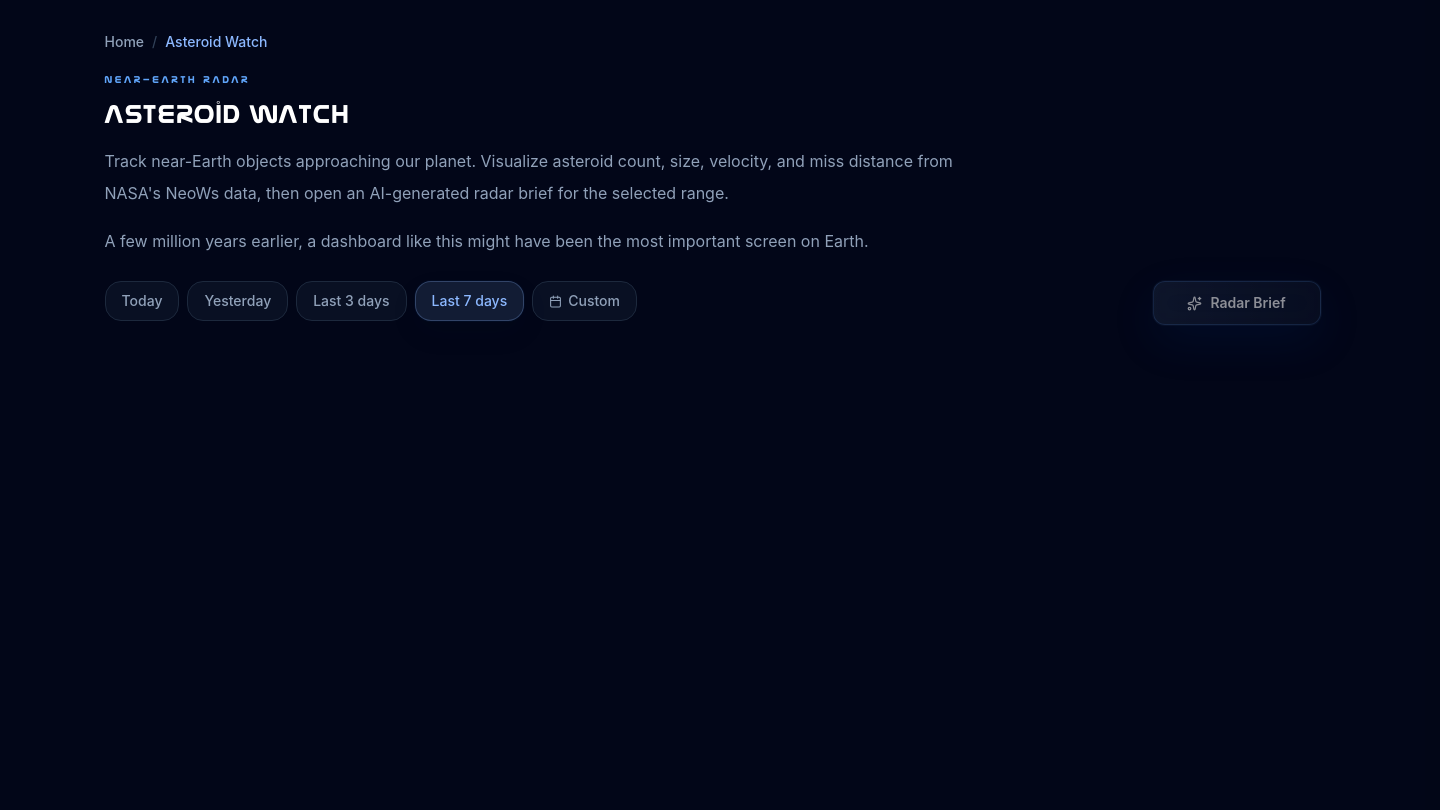
Test case: AsteroidWatchPage › closes the custom calendar when clicking outside
The image size is (1440, 810).
Click the button "Custom" at (585, 301), box [532, 281, 637, 321]
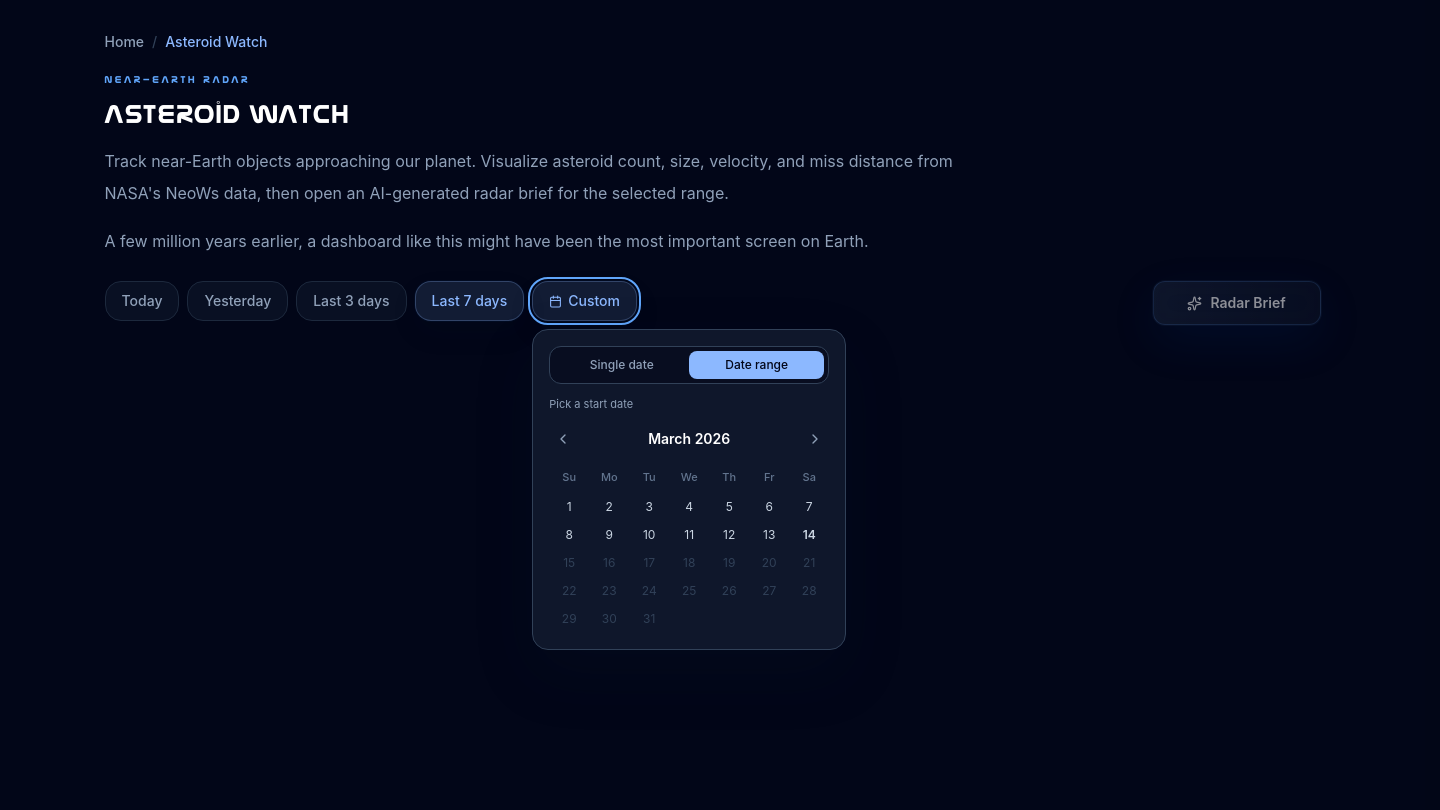
Check: the button "Single date" is shown, box [554, 351, 689, 379]
Press the mouse on the element that starts with "Home" at (712, 405), box [0, 0, 1425, 809]
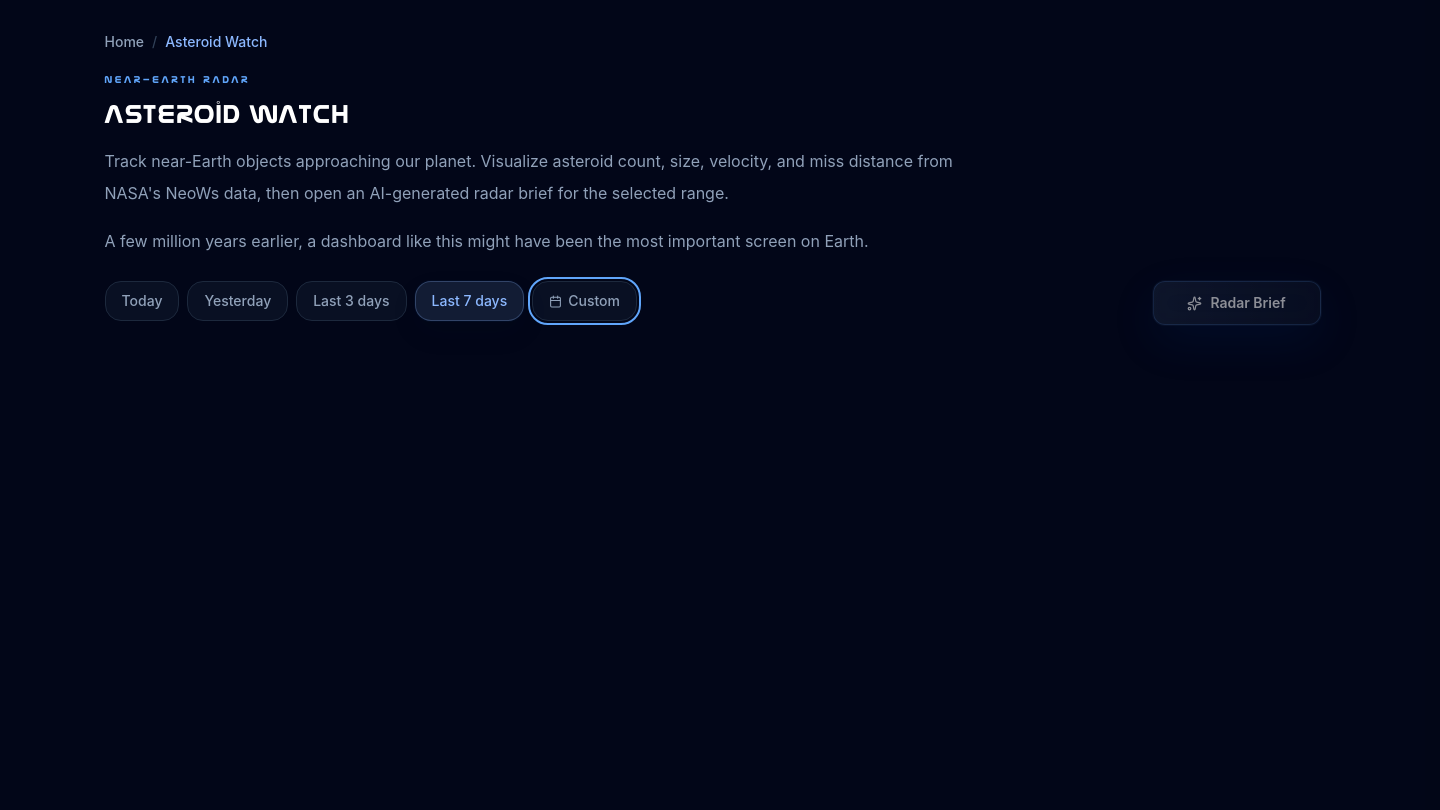
Check: the button "Single date" is gone
